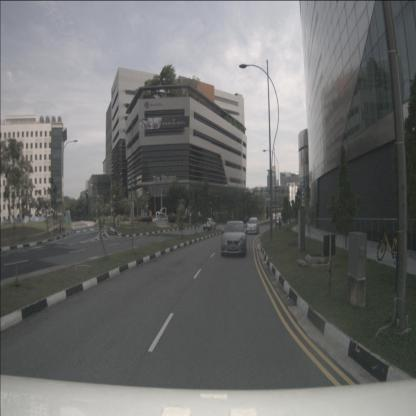vehicle-bicycle: (377, 220, 408, 264)
vehicle-car: (221, 220, 246, 257), (246, 218, 260, 234), (203, 218, 216, 231), (275, 217, 282, 226)
